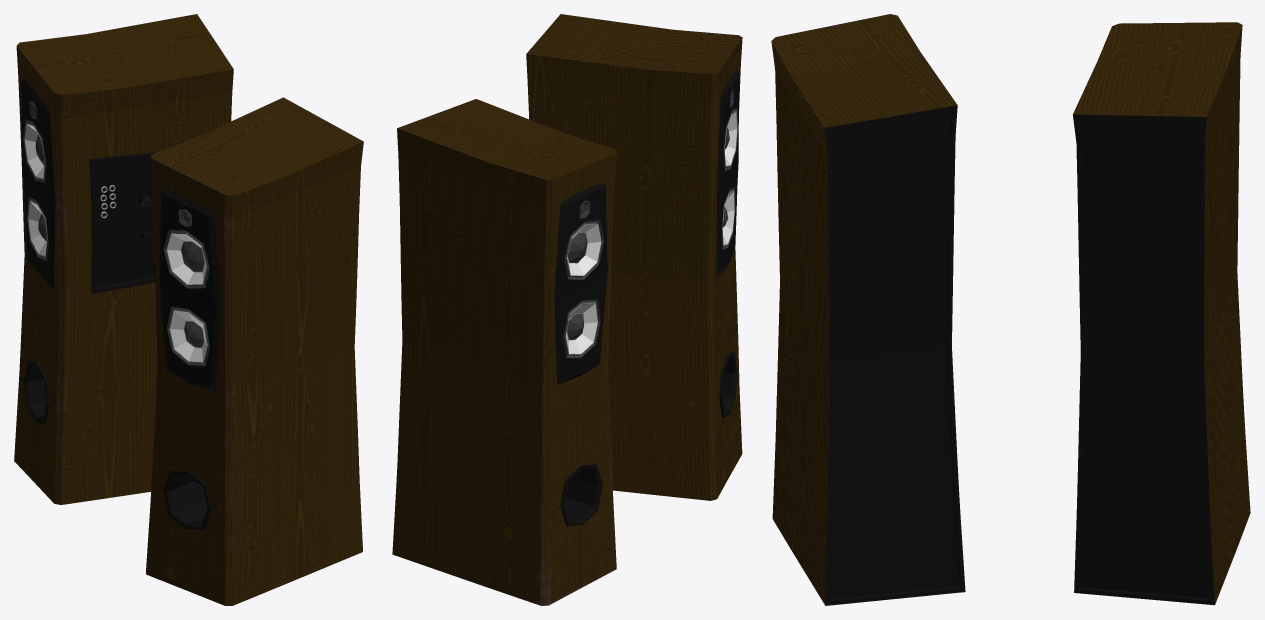
Rendered from stylized_speakers.glb.
The picture shows the model from 3 angles, left to right: view 1: azimuth 30°, elevation 25°; view 2: azimuth 150°, elevation 25°; view 3: azimuth 270°, elevation 25°; orthographic projection. The views are drawn at different scales.
Parts seen in each view (by area): view 1: Object_2; view 2: Object_2; view 3: Object_2.
Part boxes in pixels (x1,y1,x2,y2): Object_2: (14,14,363,605); Object_2: (392,14,742,605); Object_2: (771,14,1250,605).
Size of the model in its own units: 65 by 140 by 124.
1 material, 1 textured.
